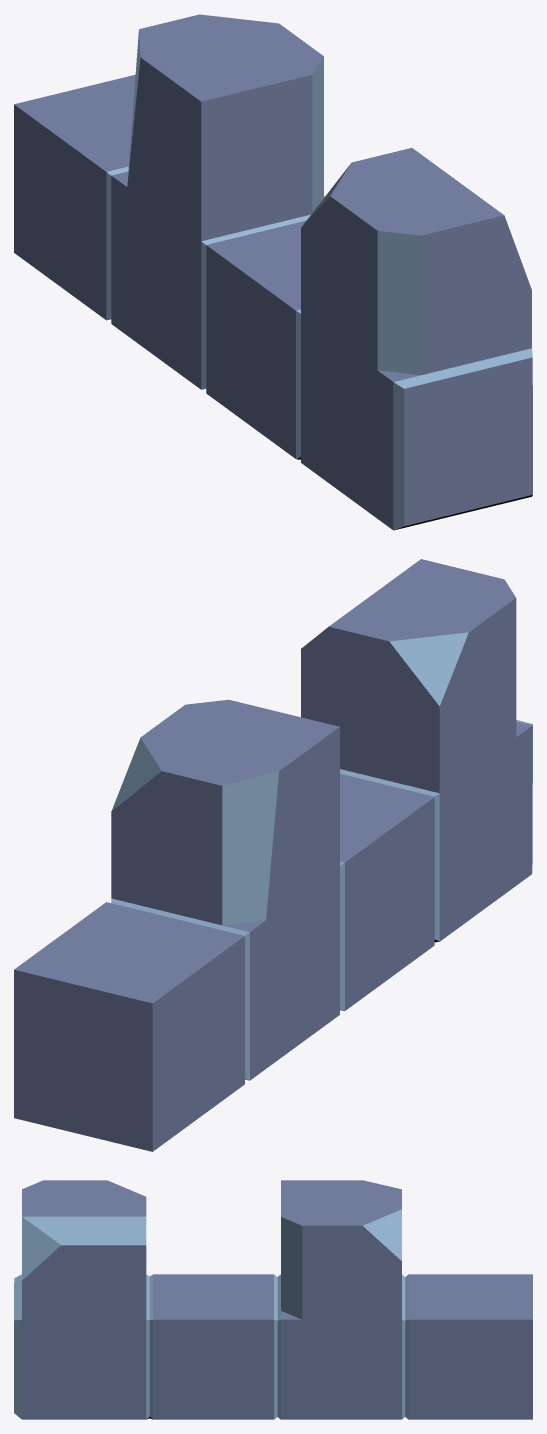
The model's file is Wall_Base_Balustrade_02.fbx.
The picture shows the model from 3 angles, top to bottom: view 1: azimuth 30°, elevation 25°; view 2: azimuth 150°, elevation 25°; view 3: azimuth 270°, elevation 25°; orthographic projection. The views are drawn at different scales.
Parts seen in each view (by area): view 1: Wall_Base_Balustrade_02; view 2: Wall_Base_Balustrade_02; view 3: Wall_Base_Balustrade_02.
Part boxes in pixels (bbox=[...]): Wall_Base_Balustrade_02: bbox=[14, 14, 532, 530]; Wall_Base_Balustrade_02: bbox=[14, 559, 532, 1151]; Wall_Base_Balustrade_02: bbox=[14, 1180, 532, 1419].
Size of the model in its own units: 75 by 149 by 361.
